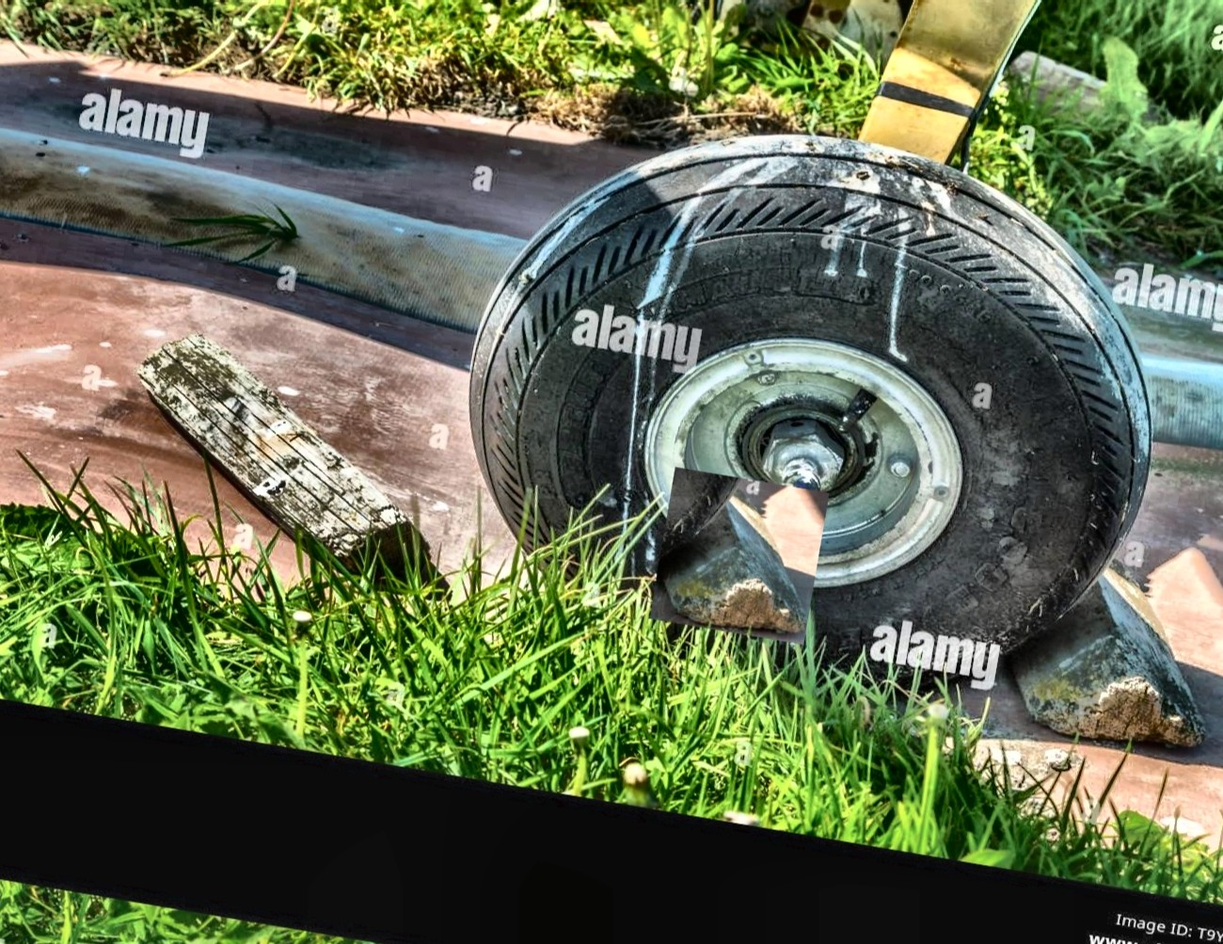chock: (106, 306, 467, 596), (999, 531, 1223, 763), (650, 466, 829, 644)
wheel: (430, 83, 1194, 715)
